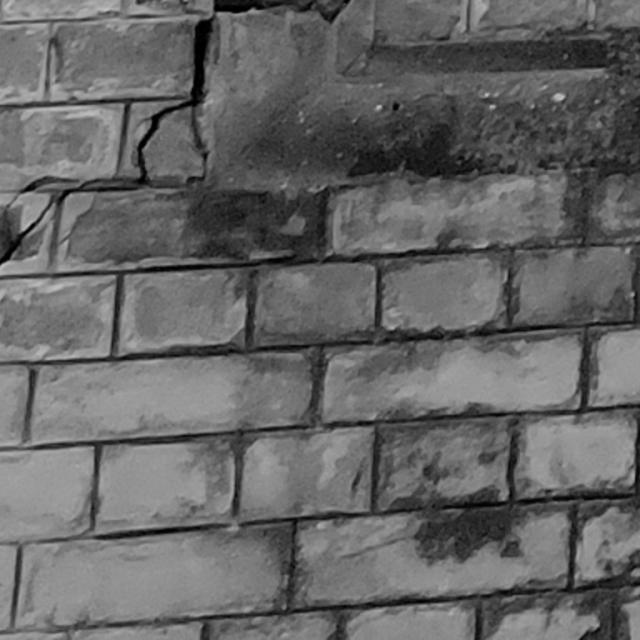crack: (1, 16, 212, 264)
